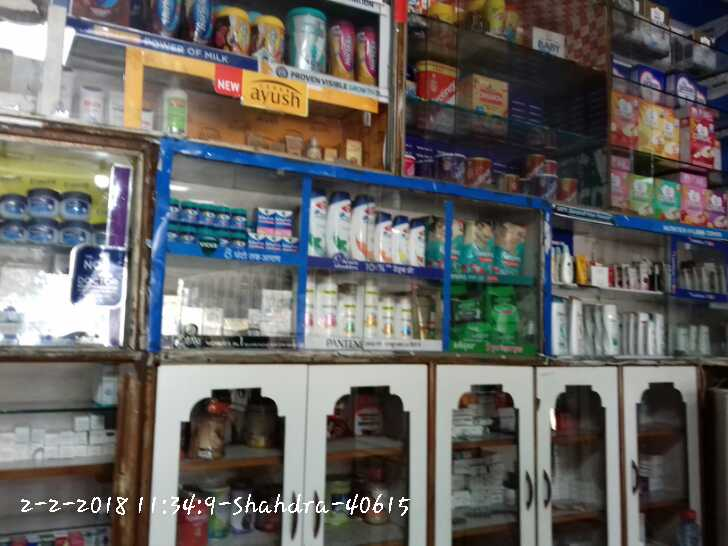vicks: (166, 195, 301, 252)
